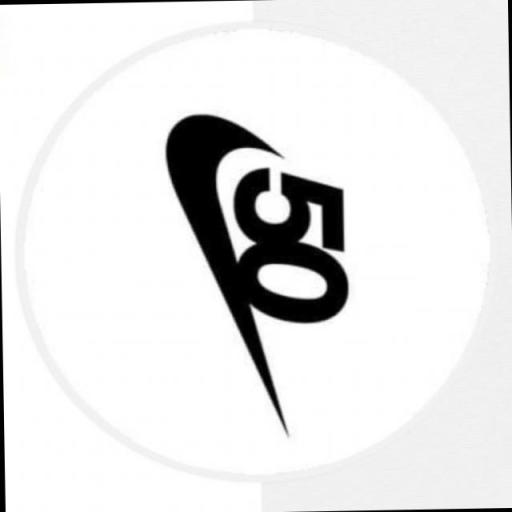Nike: (159, 103, 306, 450)
